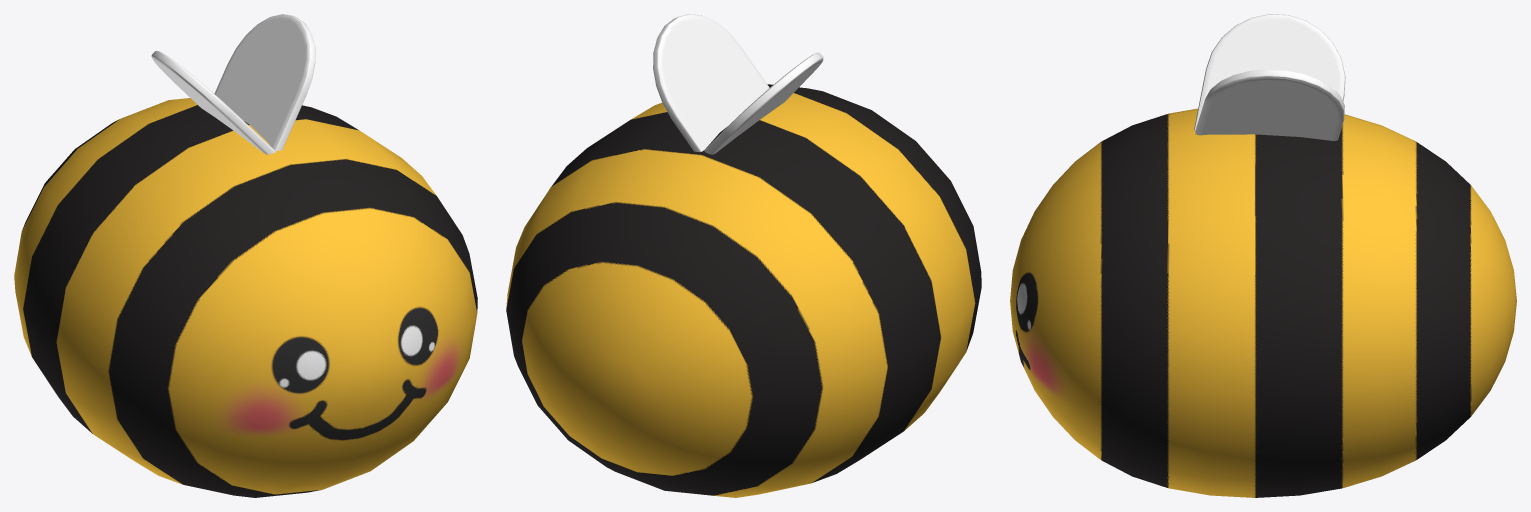
The model's file is ongg.fbx.
The picture shows the model from 3 angles, left to right: view 1: azimuth 30°, elevation 25°; view 2: azimuth 150°, elevation 25°; view 3: azimuth 270°, elevation 25°; orthographic projection. The views are drawn at different scales.
Parts seen in each view (by area): view 1: ong; view 2: ong; view 3: ong.
Part boxes in pixels (x1,y1,x2,y2): ong: (14,14,477,497); ong: (506,14,981,497); ong: (1010,14,1516,497).
Bounding box in the file's own units: 2 × 2.14 × 2.25.
Materials: 1 (1 with a texture image).
